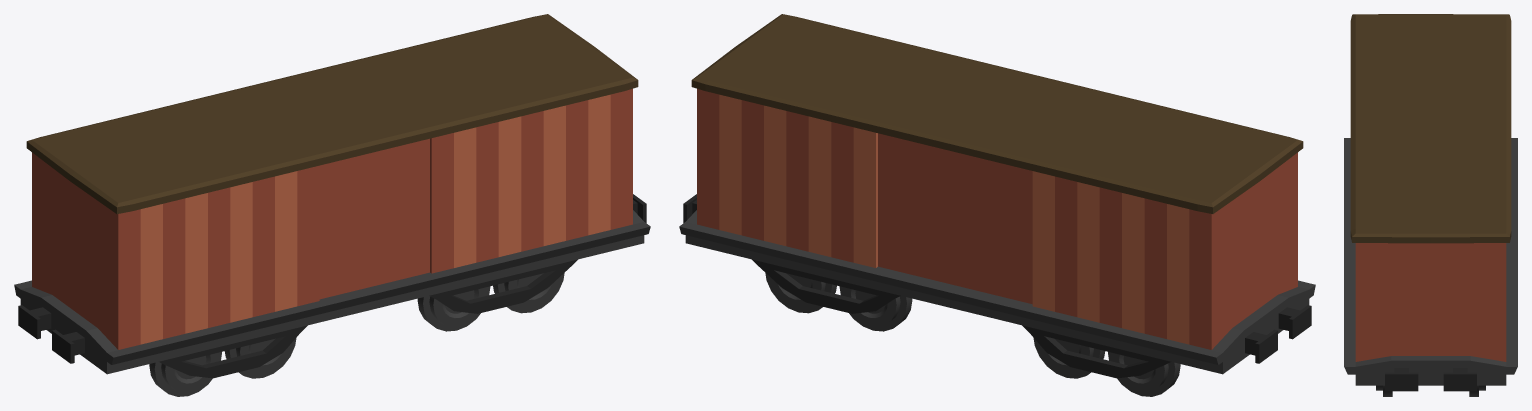
The model's file is boxcar.fbx.
3 views of the same model, side by side, from view 1: azimuth 30°, elevation 25°; view 2: azimuth 150°, elevation 25°; view 3: azimuth 270°, elevation 25° (orthographic). The views are drawn at different scales.
Parts seen in each view (by area): view 1: boxcar; view 2: boxcar; view 3: boxcar.
Part boxes in pixels (bbox=[...]): boxcar: bbox=[14, 14, 650, 396]; boxcar: bbox=[679, 14, 1315, 396]; boxcar: bbox=[1344, 14, 1517, 396].
Bounding box in the file's own units: 873 × 327 × 261.
